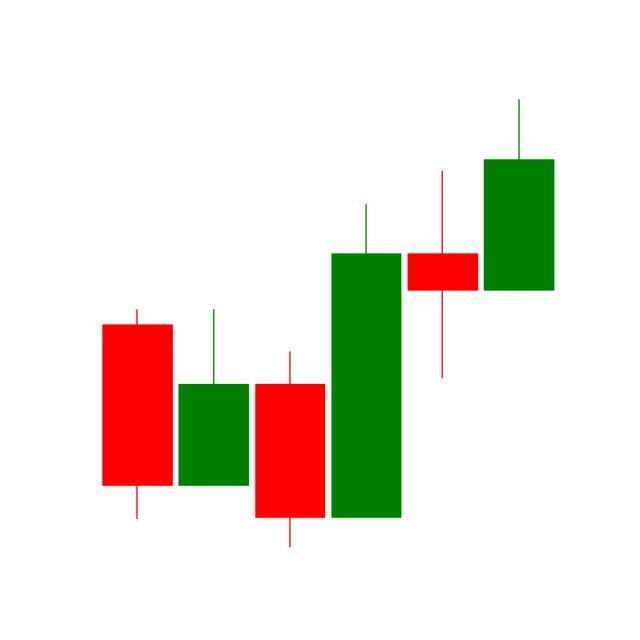Spinning Top: (404, 169, 482, 383)
